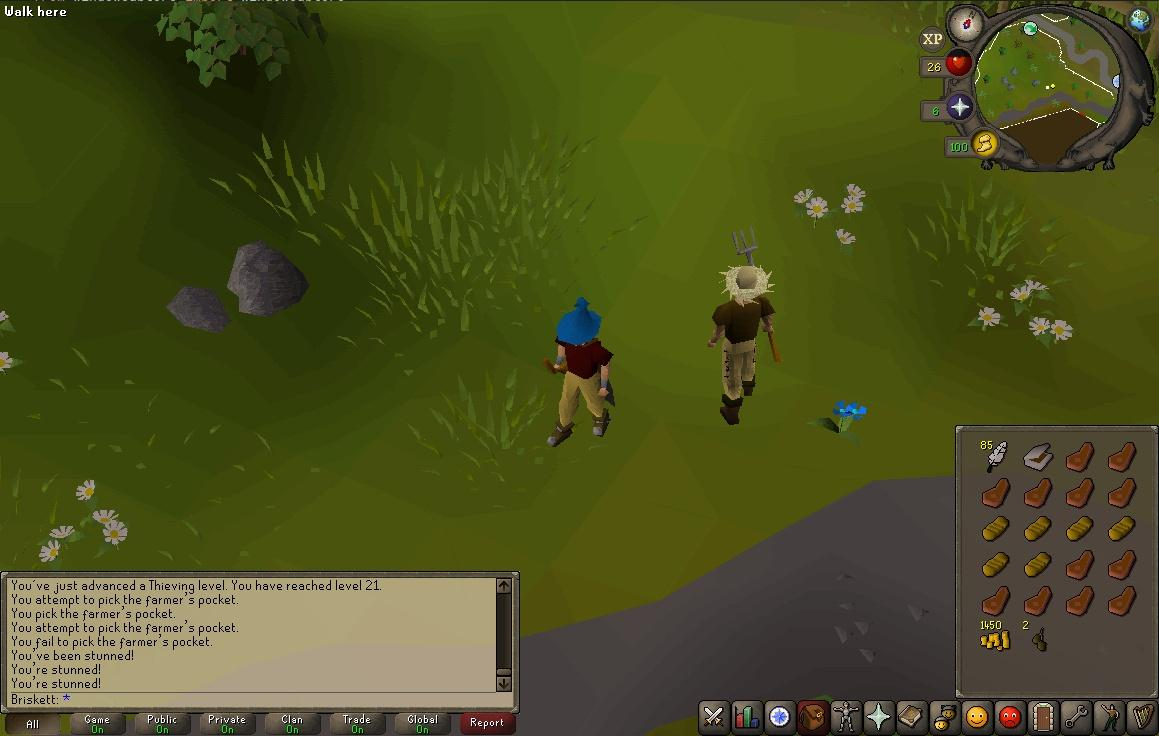Farmer: (706, 264, 780, 426)
